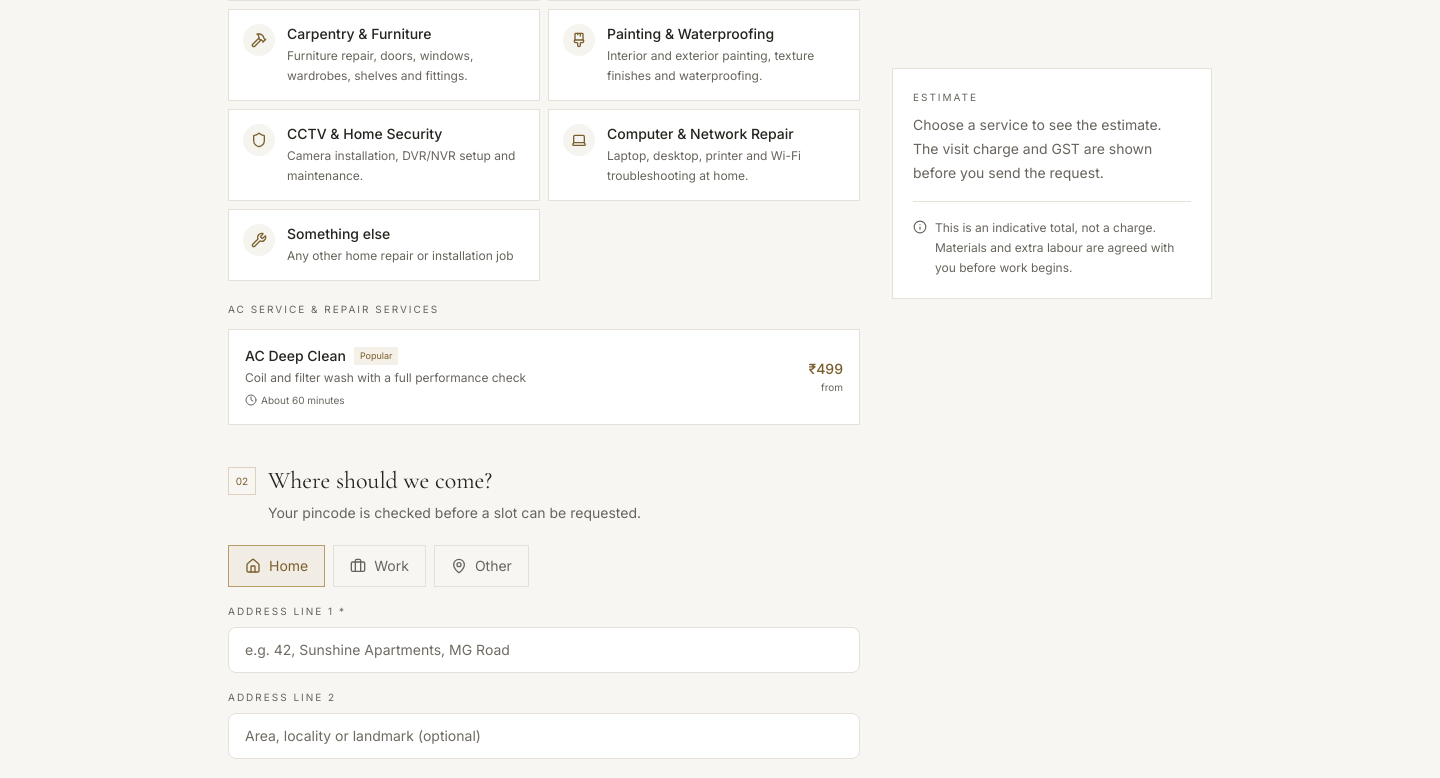
Test: booking flow — submission › requires the request acknowledgement before sending
(page scrolled)
Step 1. Click the button "AC Deep Clean" → (295, 356), box [228,329,860,425]
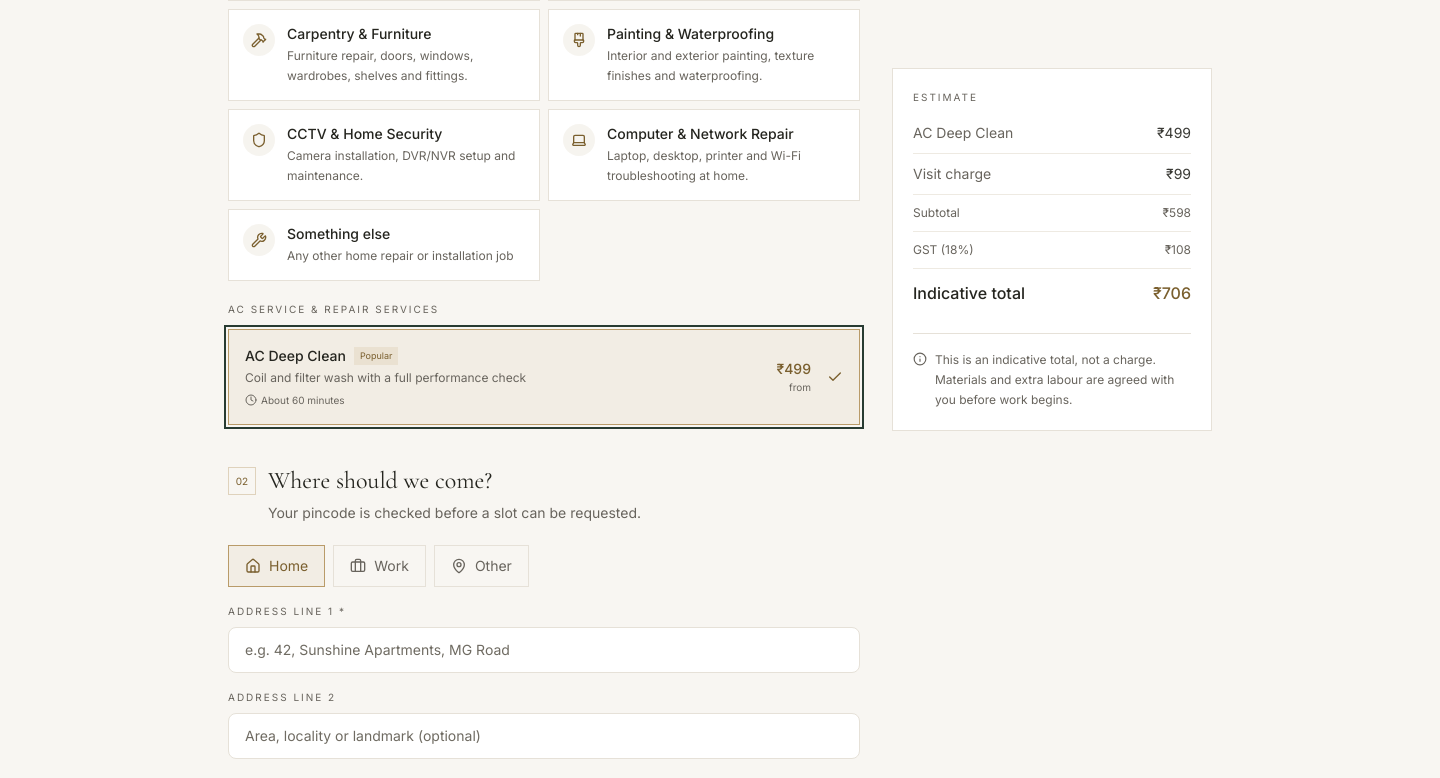
Step 2. Type "42, Sunshine Apartments" into the field labelled "Address line 1 *" → (544, 650), box [228,627,860,673]
(page scrolled)
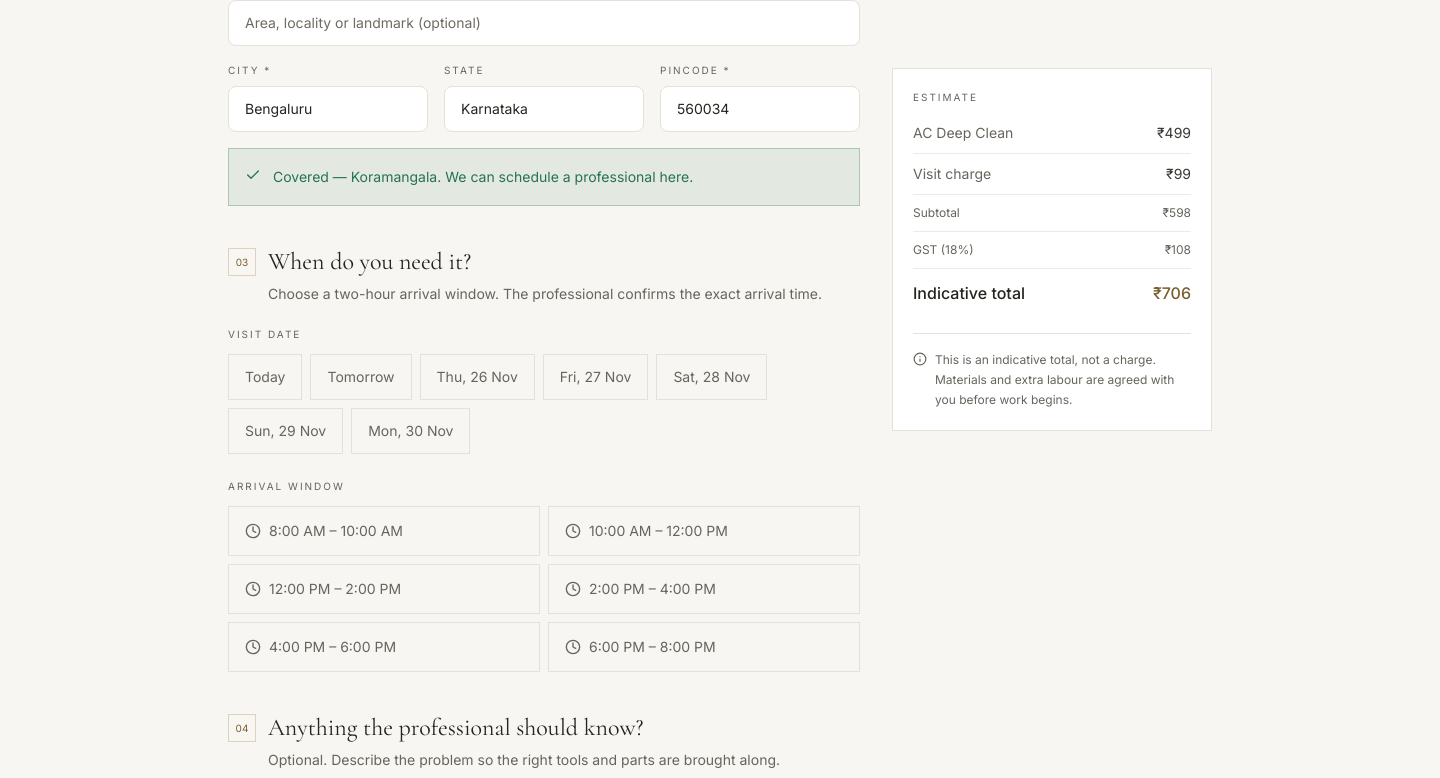
Step 3. Click the button "Tomorrow" → (361, 377), box [310,354,412,400]
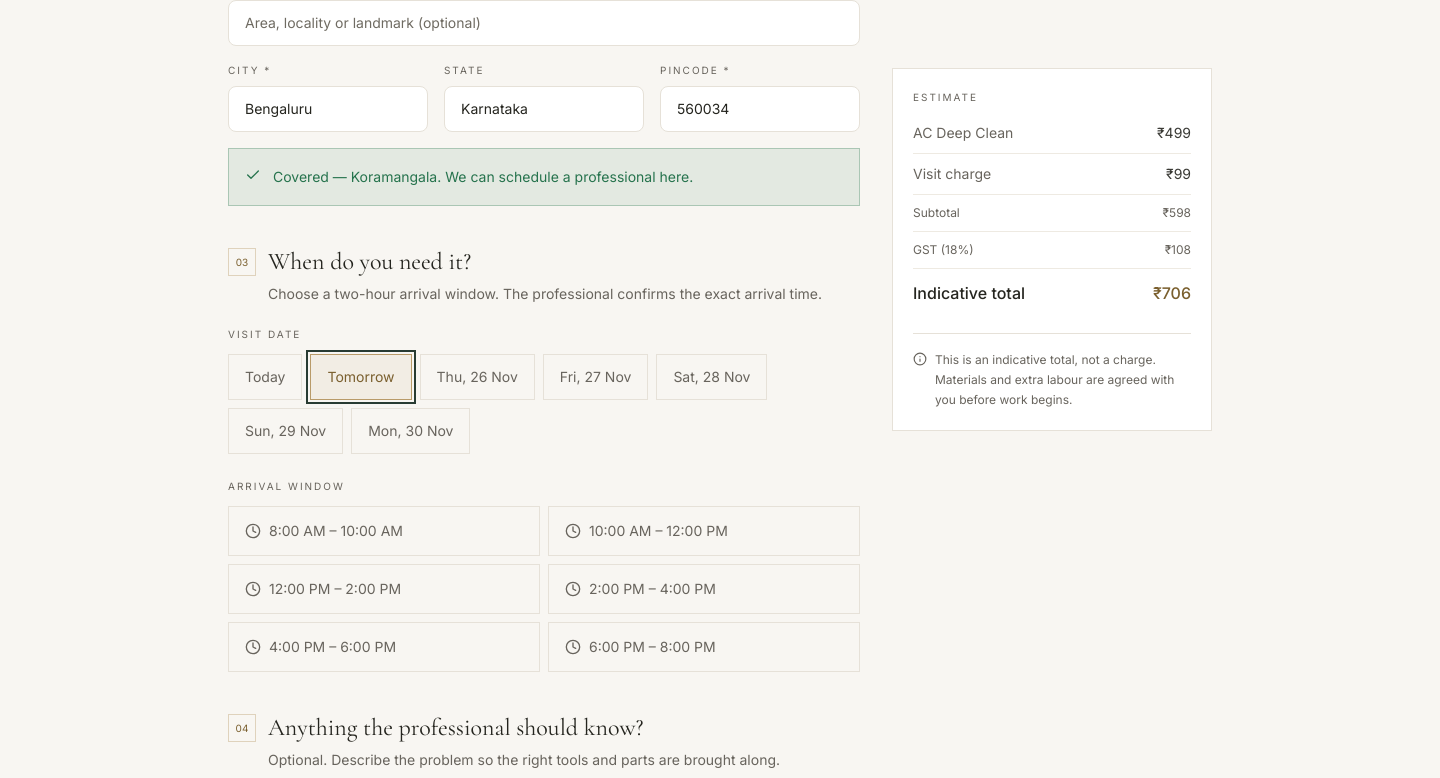
Step 4. Click the button "8:00 AM – 10:00 AM" → (384, 531), box [228,506,540,556]
(page scrolled)
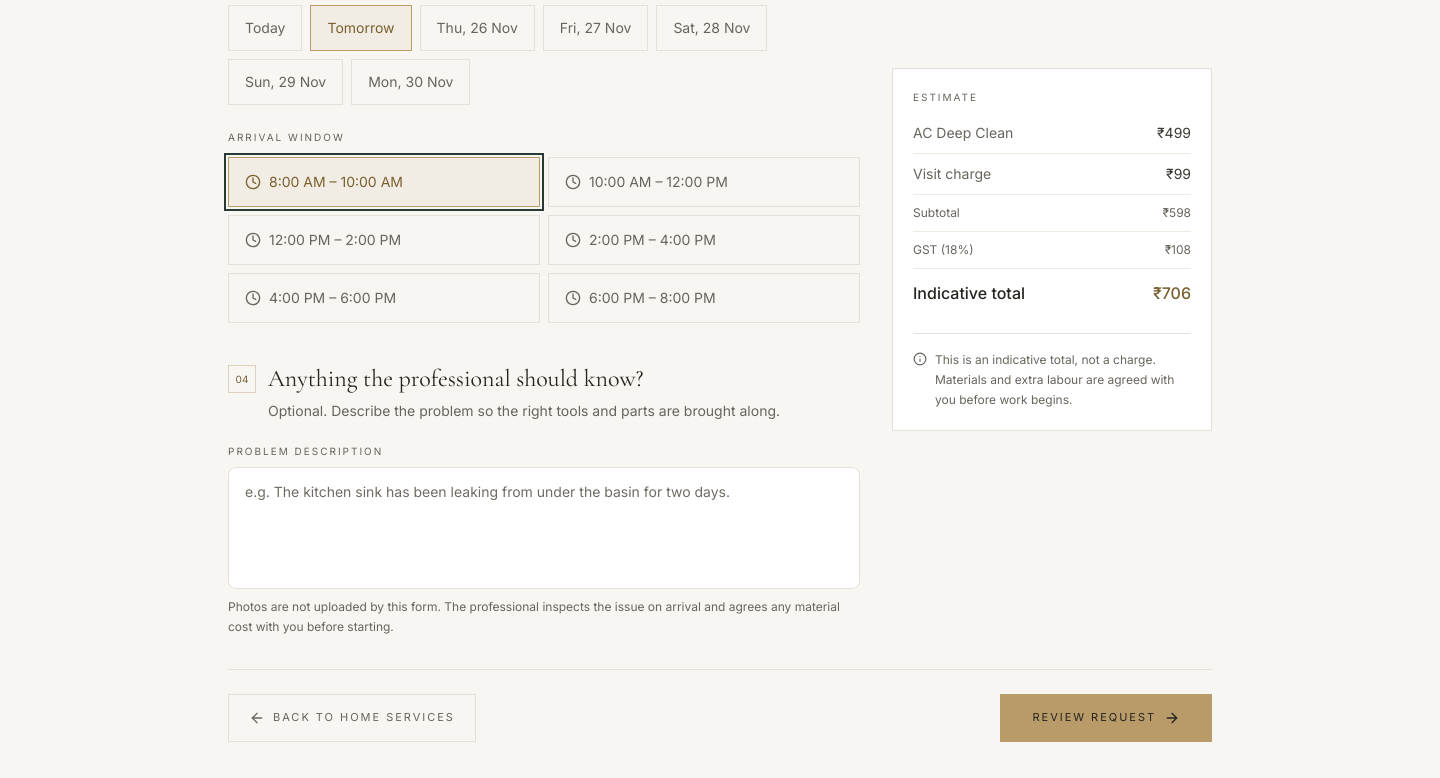
Step 5. Click the button "Review request" → (1106, 718), box [1000,694,1212,742]
(page scrolled)
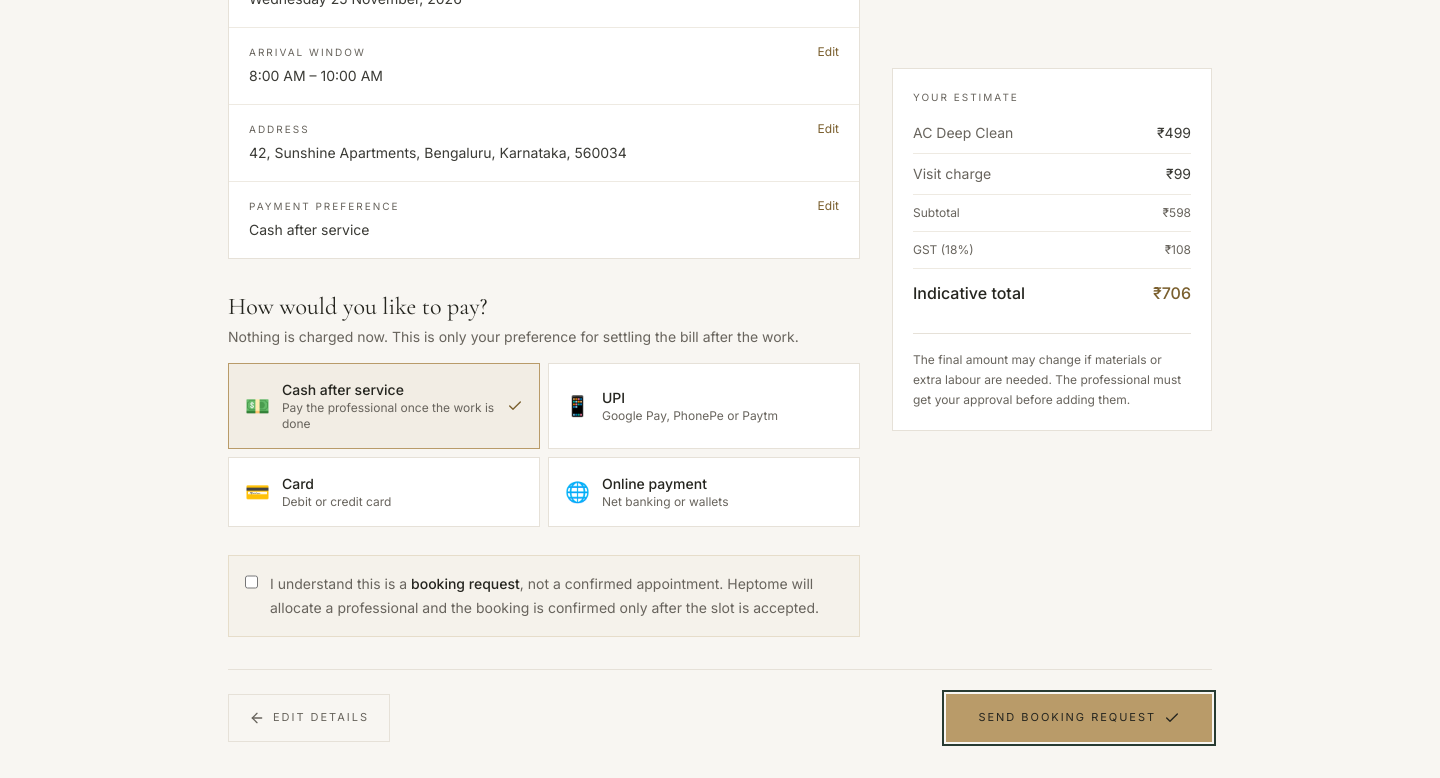
Step 6. Click the button "Send booking request" → (1079, 718), box [946,694,1212,742]
(page scrolled)
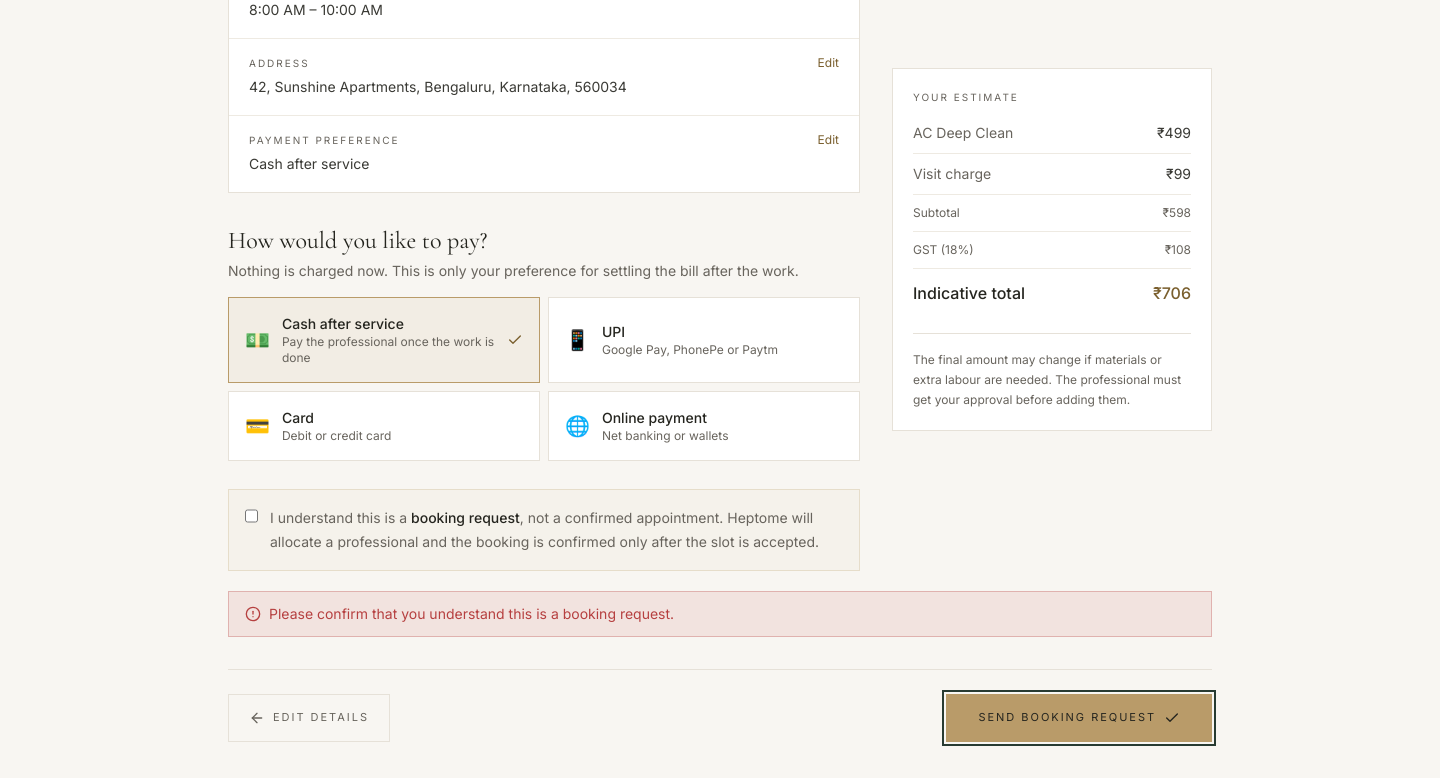
Now the message shows "booking request", box [269,605,674,622]
